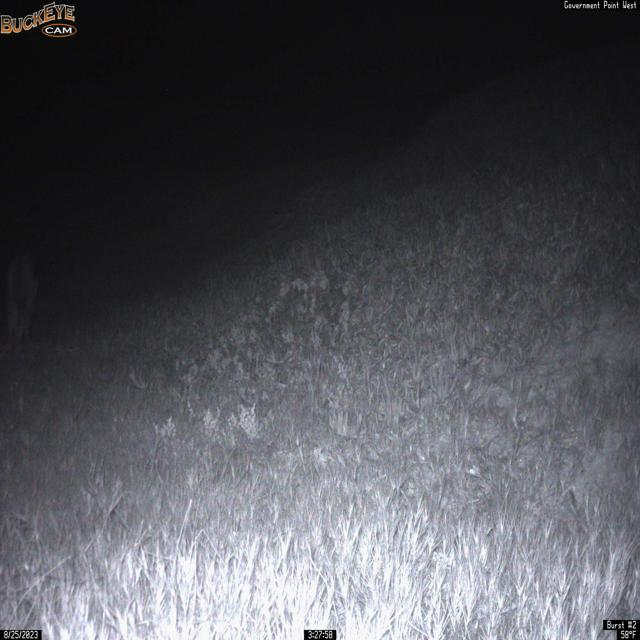coyote: (5, 250, 40, 349)
